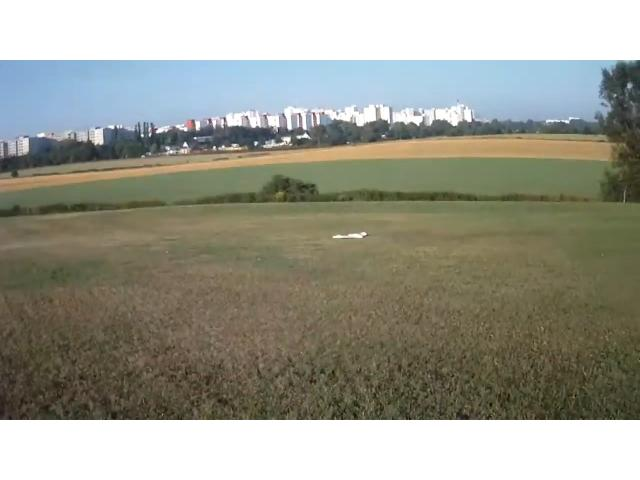Anti-Drone: (318, 220, 380, 252)
